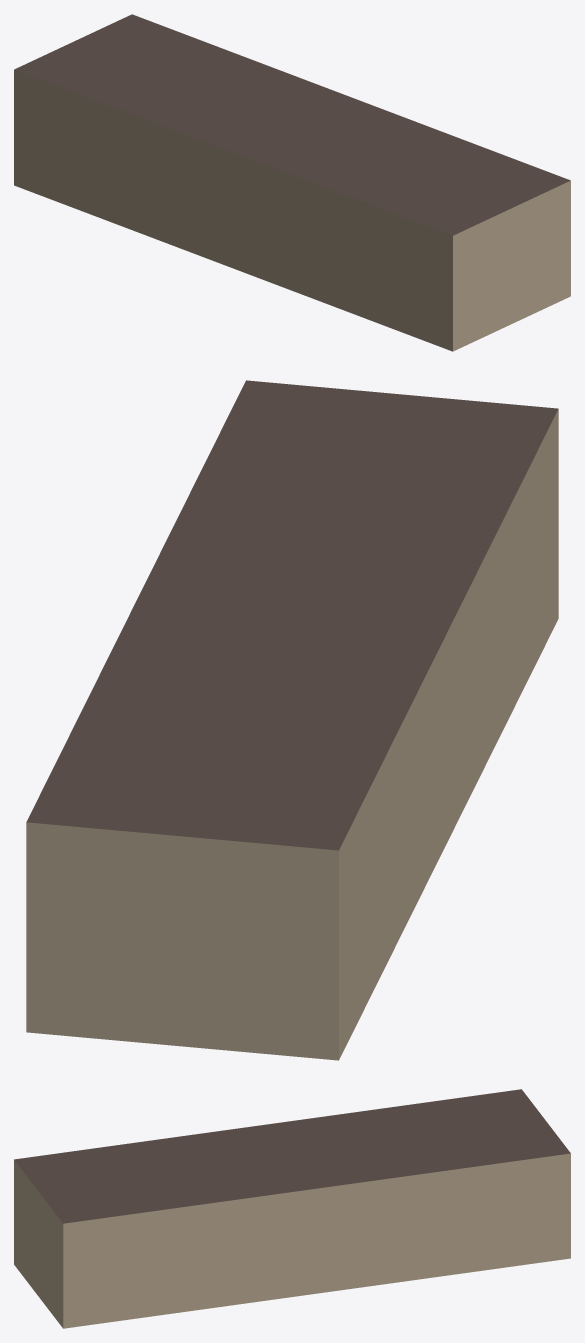
3 renders of one model, top to bottom at view 1: azimuth 30°, elevation 25°; view 2: azimuth 150°, elevation 25°; view 3: azimuth 270°, elevation 25°, orthographic. The views are drawn at different scales.
Visible parts, largest first — view 1: HP-w859457469; view 2: HP-w859457469; view 3: HP-w859457469.
Part boxes in pixels (left/top/right/bottom): HP-w859457469: left=14, top=14, right=570, bottom=351; HP-w859457469: left=26, top=380, right=558, bottom=1060; HP-w859457469: left=14, top=1089, right=570, bottom=1328.
Bounding box in the file's own units: 24.72 × 9 × 43.25.
